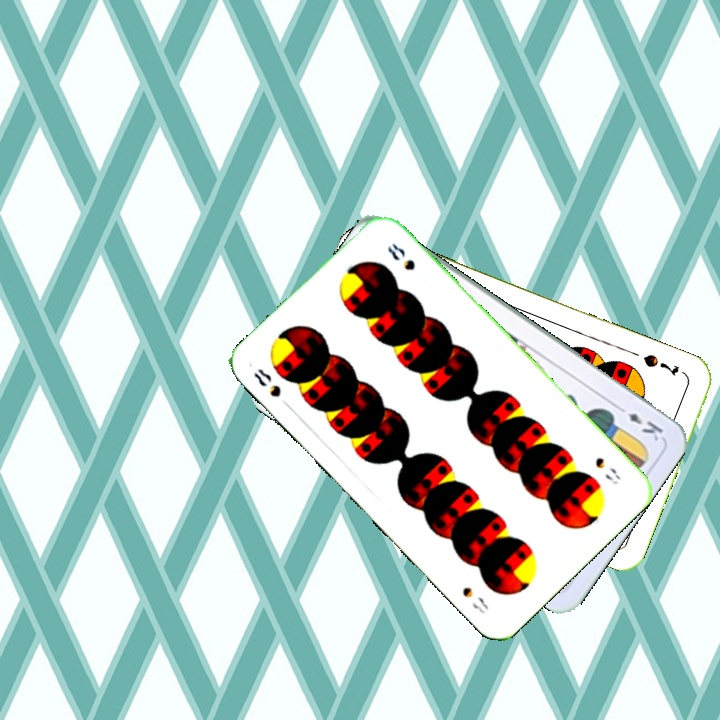EK: (612, 401, 666, 444)
S7: (639, 350, 682, 379)
S8: (249, 364, 284, 400), (591, 453, 624, 487)
